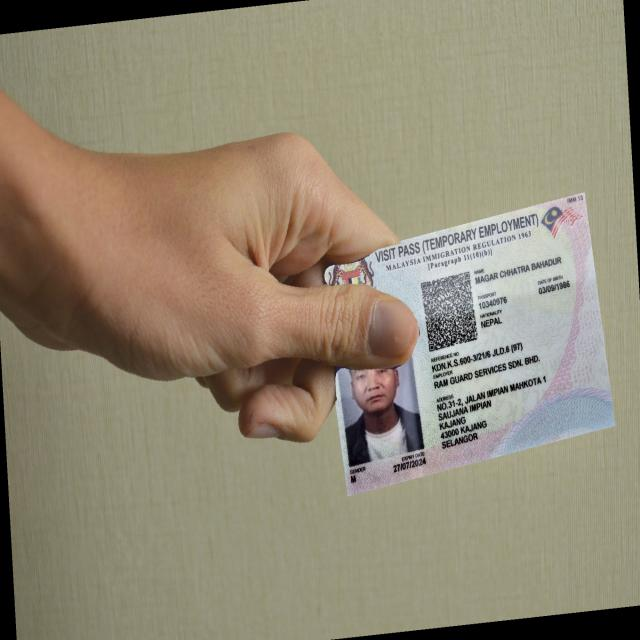ikad-temp: (323, 191, 616, 496)
